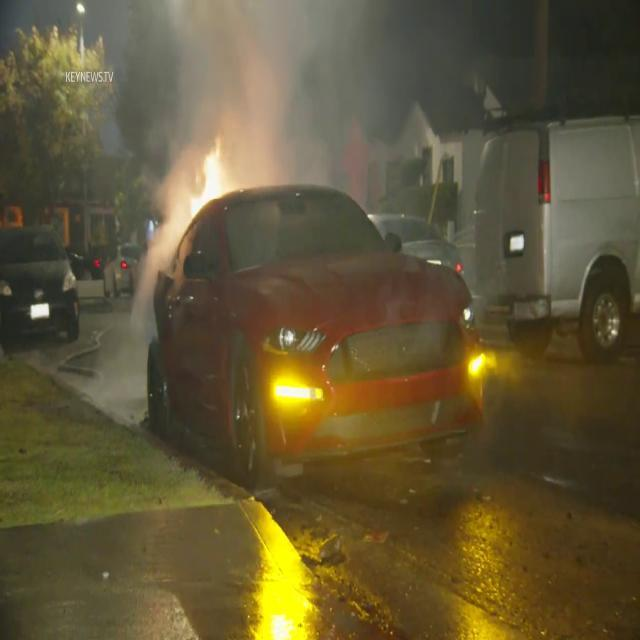Fire: (187, 126, 233, 210)
Smoke: (117, 0, 418, 214)
